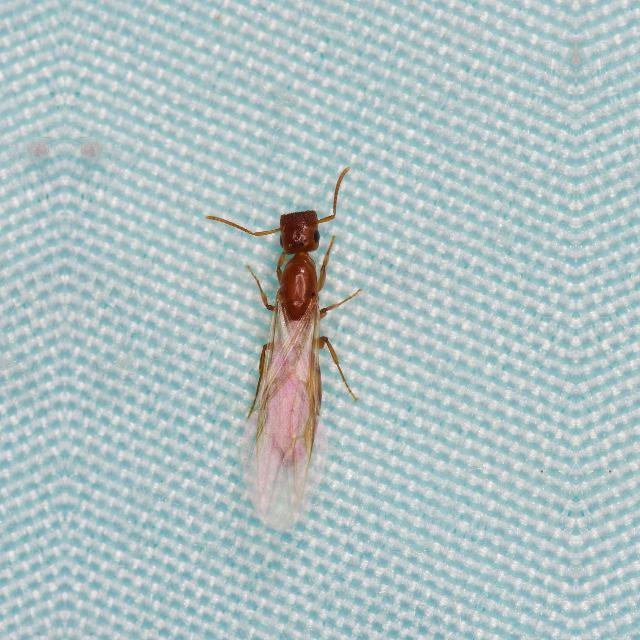Colobopsis: (206, 145, 380, 518)
